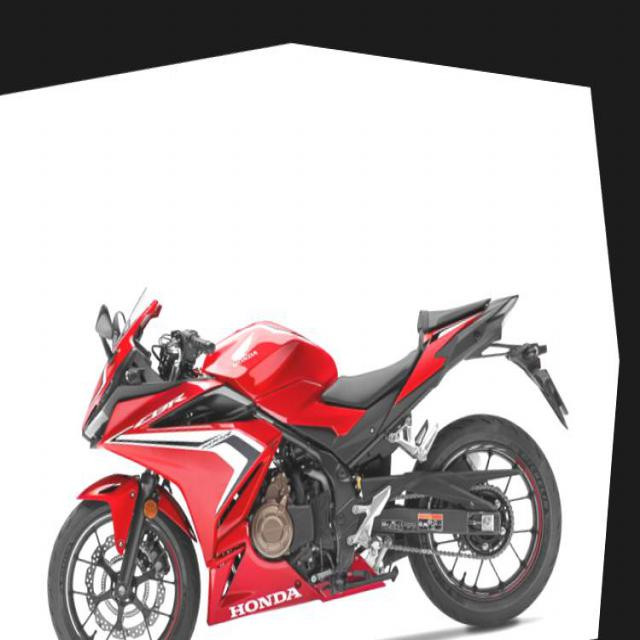CBR500R: (1, 133, 623, 639)
